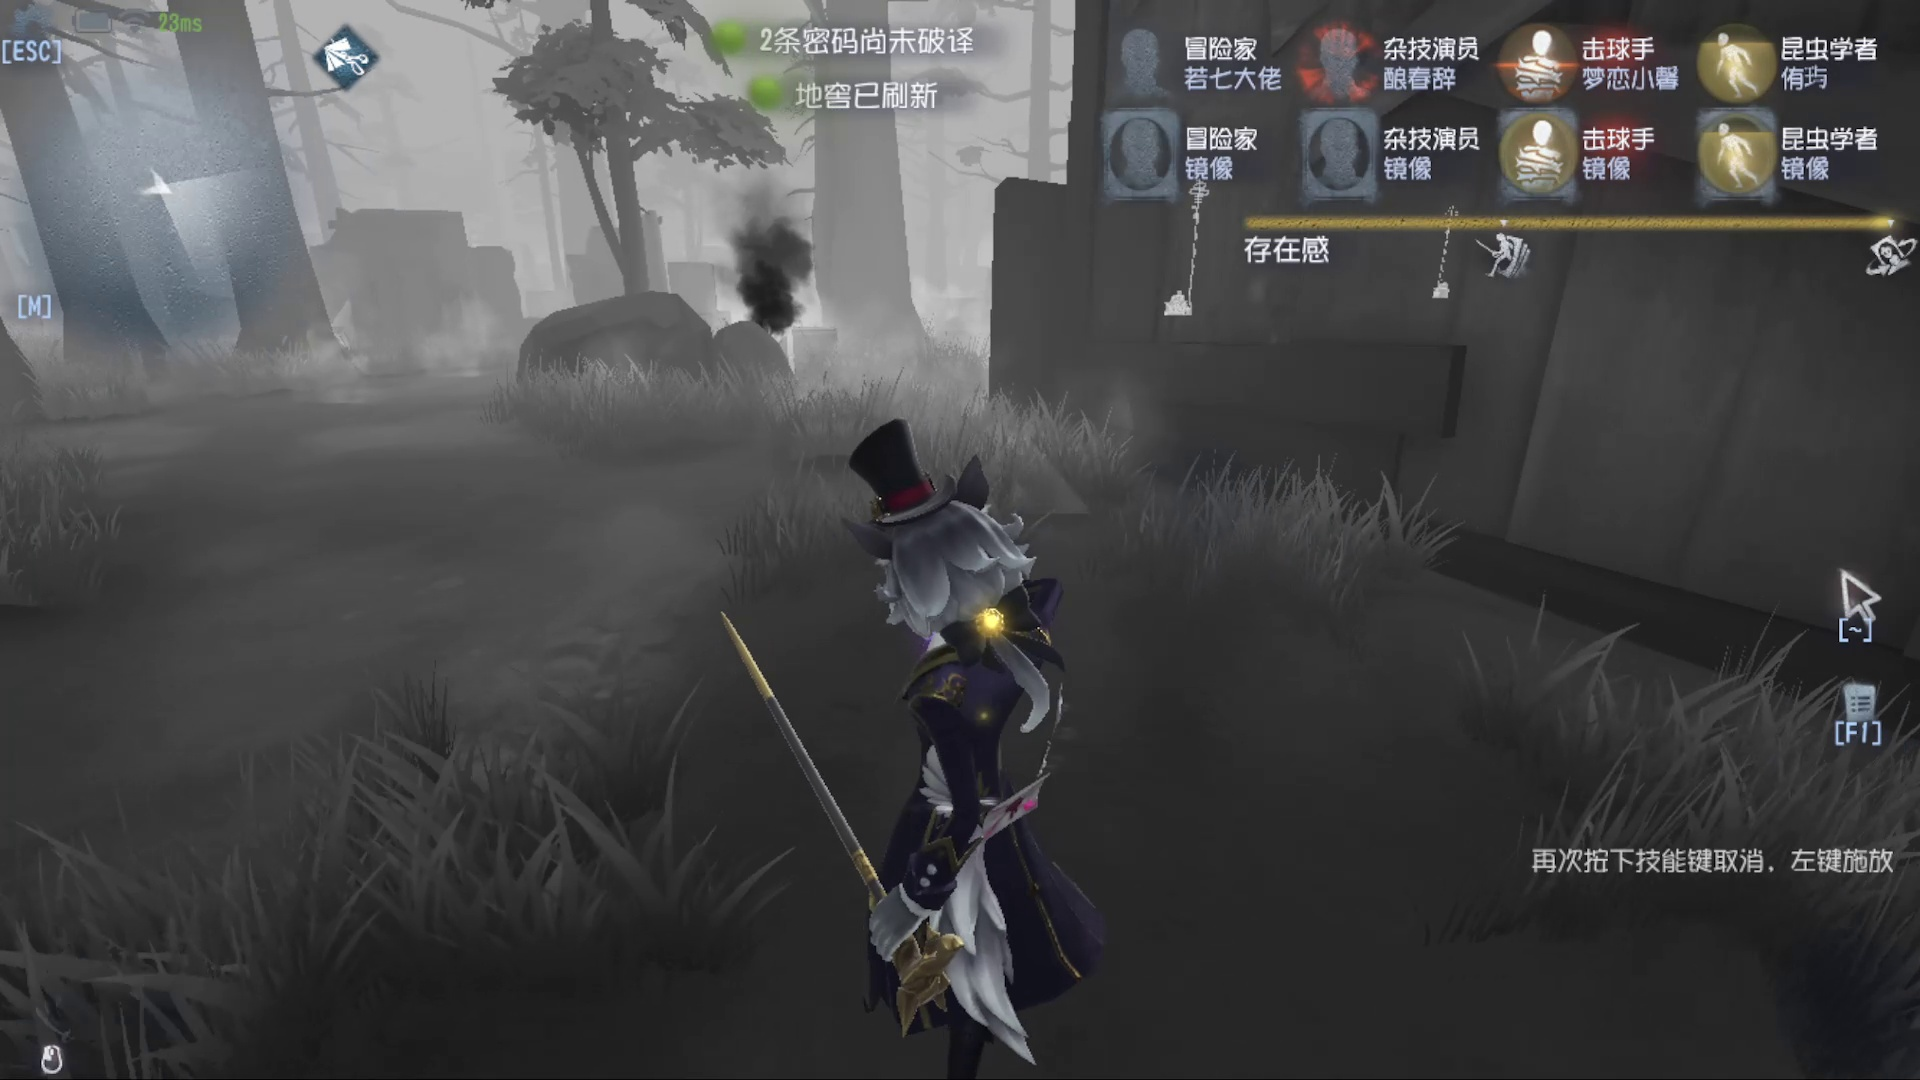密码机: (1135, 165, 1205, 310)
